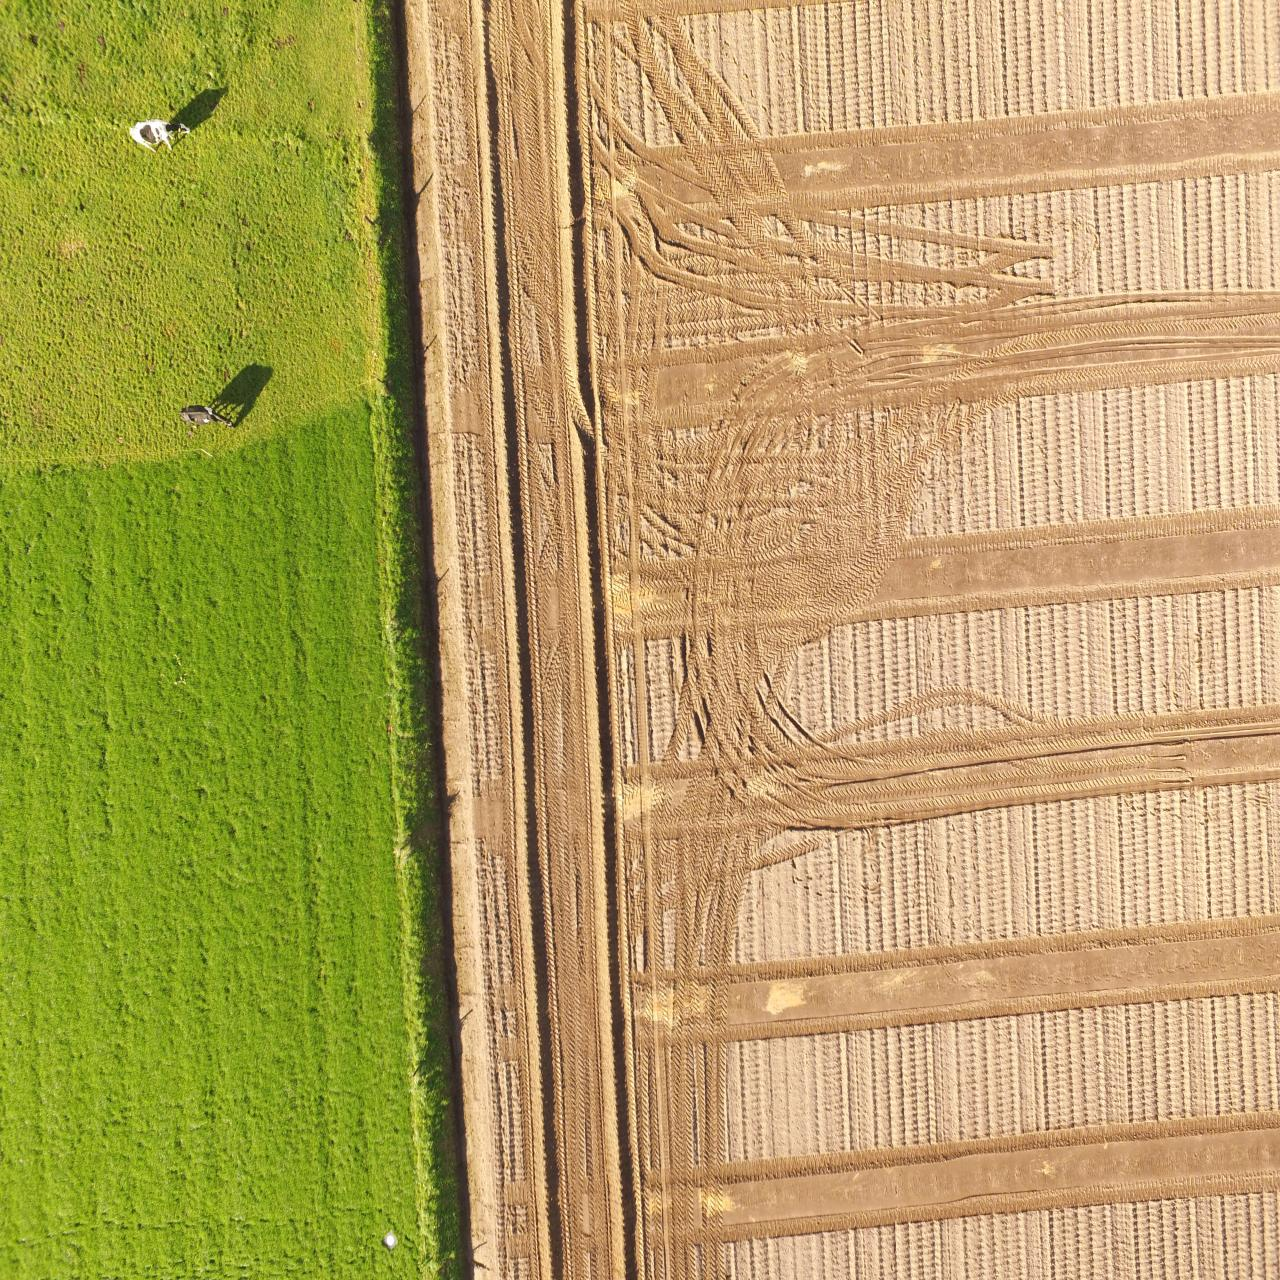cow: (124, 114, 191, 156), (176, 400, 234, 431)
